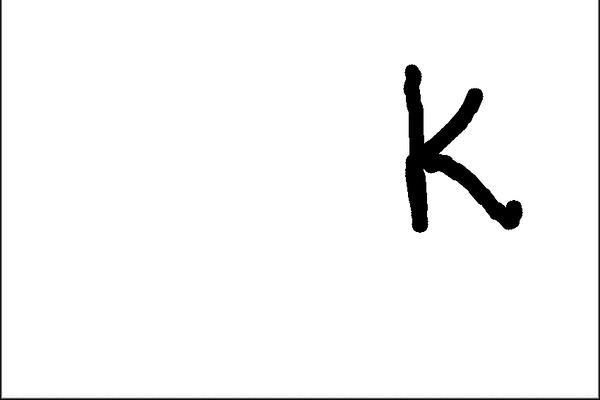K: (390, 54, 530, 236)
